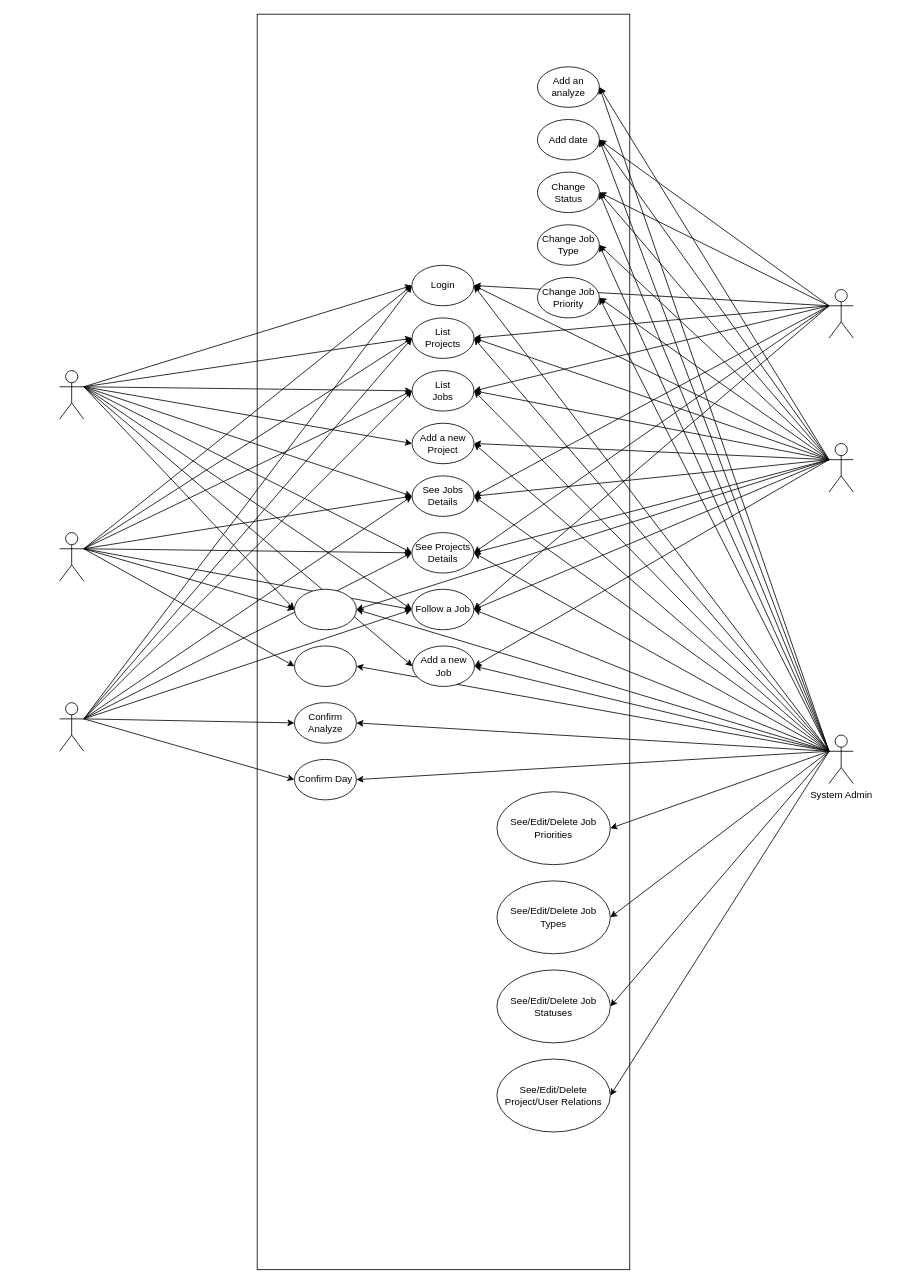
Some shapes in this 913 by 1284 pixel diagram are drawn without their labels. The centre of each missing label's shape, as x and y in pixels:
"Company Developer" goes at [840,313].
"Company Project Manager" goes at [840,467].
"Confirm Job" goes at [325,665].
"Customer Admin" goes at [71,394].
"Customer Personel" goes at [71,726].
"Customer Project Manager" goes at [71,556].
"Get a Report" goes at [325,609].
